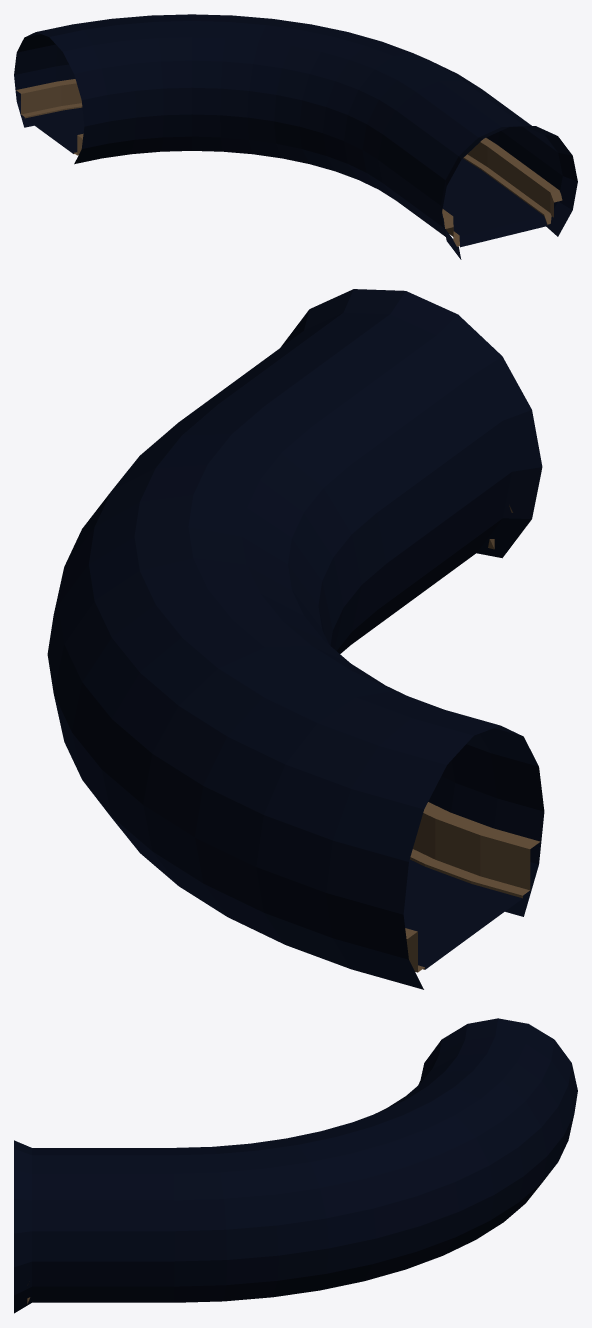
The model's file is tunnelLeft.glb.
3 views of the same model, one above another, from view 1: azimuth 30°, elevation 25°; view 2: azimuth 150°, elevation 25°; view 3: azimuth 270°, elevation 25° (orthographic). The views are drawn at different scales.
Parts seen in each view (by area): view 1: LeftTurn; view 2: LeftTurn; view 3: LeftTurn.
Part boxes in pixels (x1,y1,x2,y2): LeftTurn: [14, 14, 577, 259]; LeftTurn: [47, 289, 544, 989]; LeftTurn: [14, 1018, 577, 1313].
Size of the model in its own units: 32.88 by 12.14 by 44.85.
